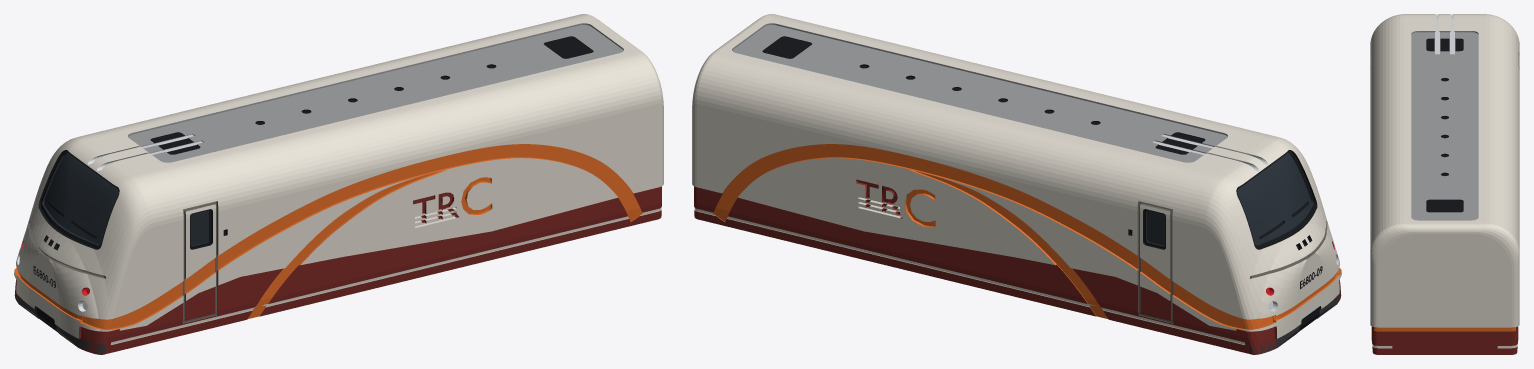
Rendered from tanzania.glb.
3 views of the same model, side by side, from view 1: azimuth 30°, elevation 25°; view 2: azimuth 150°, elevation 25°; view 3: azimuth 270°, elevation 25° (orthographic). The views are drawn at different scales.
Visible parts, largest first — view 1: trc_tanzania; view 2: trc_tanzania; view 3: trc_tanzania.
Part boxes in pixels (x1=…): trc_tanzania: x1=14, y1=14, x2=663, y2=354; trc_tanzania: x1=692, y1=14, x2=1341, y2=354; trc_tanzania: x1=1370, y1=14, x2=1519, y2=354.
Bounding box in the file's own units: 150 × 38 × 40.
